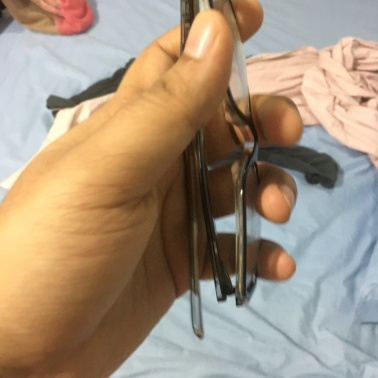glasses: (154, 5, 289, 319)
